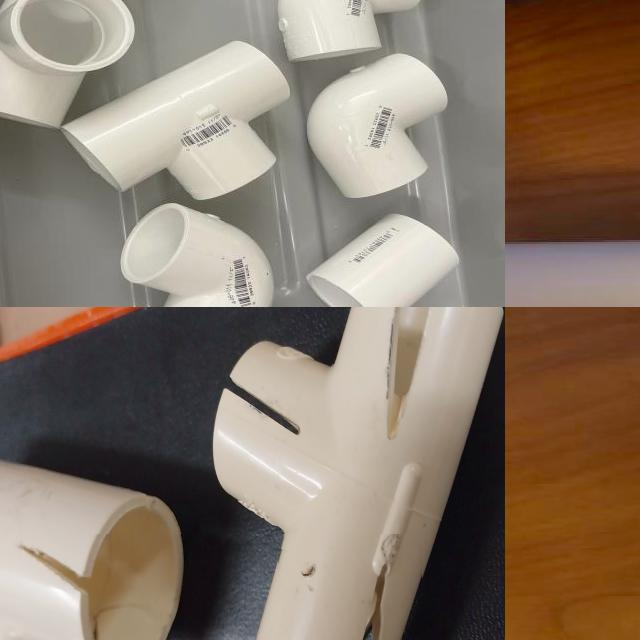Defective: (280, 550, 322, 640), (170, 307, 210, 385)
L Joint: (308, 54, 450, 202), (118, 204, 274, 307), (276, 0, 424, 64)
T Joint: (55, 307, 255, 498), (61, 39, 291, 201), (88, 535, 349, 640), (505, 240, 640, 307)
